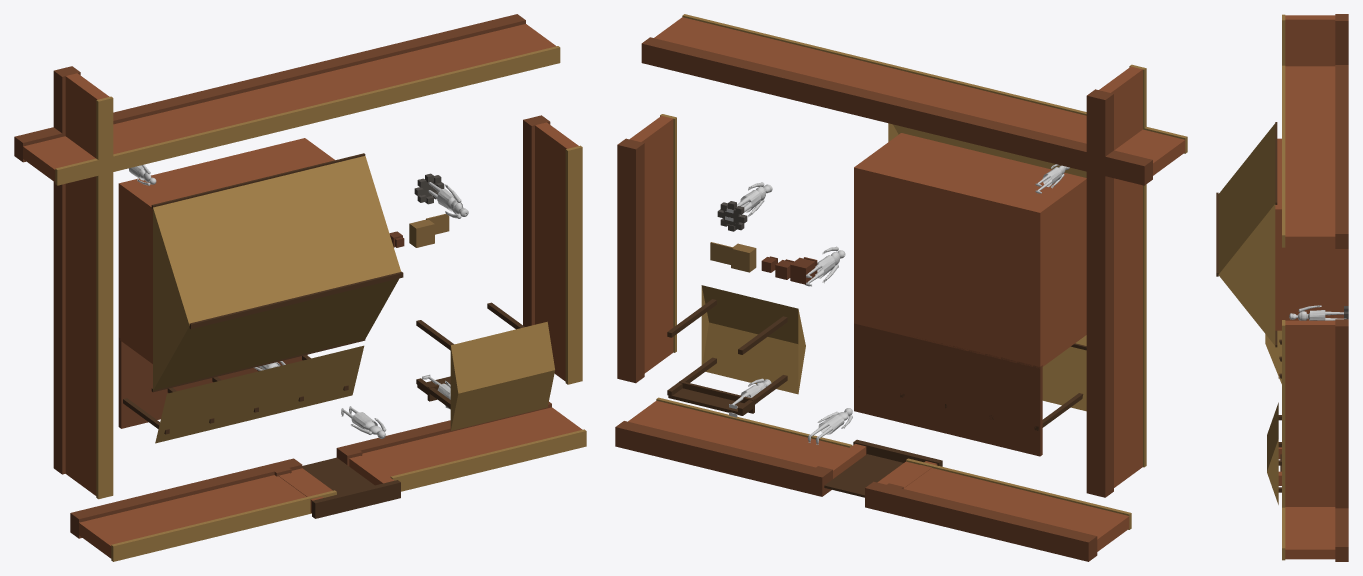
Rendered from CH01_POPULATED_MEDIUM_6.obj.
The picture shows the model from 3 angles, left to right: view 1: azimuth 30°, elevation 25°; view 2: azimuth 150°, elevation 25°; view 3: azimuth 270°, elevation 25°; orthographic projection. The views are drawn at different scales.
Size of the model in its own units: 14.2 by 11.95 by 3.96.
